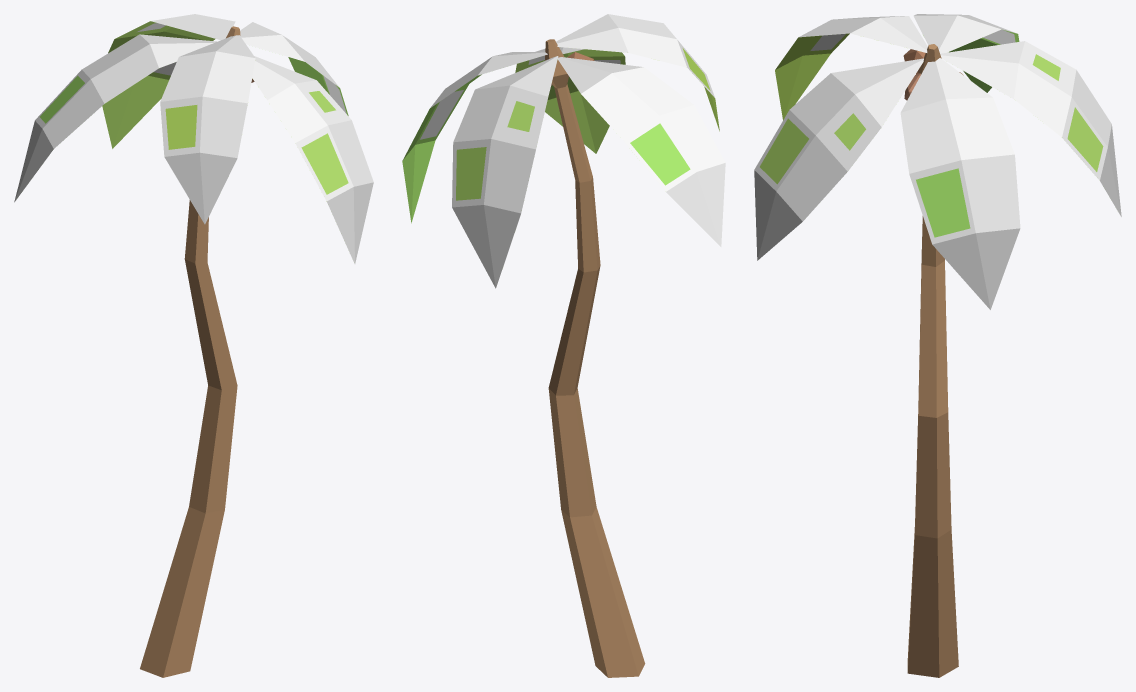
The model's file is Palm_Tree_Coconut_s_Snow_04_LOD.fbx.
3 views of the same model, side by side, from view 1: azimuth 30°, elevation 25°; view 2: azimuth 150°, elevation 25°; view 3: azimuth 270°, elevation 25° (orthographic). The views are drawn at different scales.
Visible parts, largest first — view 1: Palm_Tree_Coconut_s_Snow_04_LOD0; view 2: Palm_Tree_Coconut_s_Snow_04_LOD0; view 3: Palm_Tree_Coconut_s_Snow_04_LOD0.
Part boxes in pixels (box(x1,y1,x2,y2)): Palm_Tree_Coconut_s_Snow_04_LOD0: box(14, 14, 373, 677); Palm_Tree_Coconut_s_Snow_04_LOD0: box(402, 14, 725, 677); Palm_Tree_Coconut_s_Snow_04_LOD0: box(754, 14, 1121, 677).
Size of what is drawn, in the model's own units: 243 by 462 by 232.
